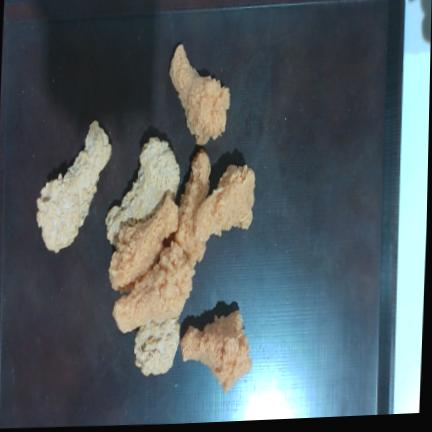chicken: (36, 121, 111, 252), (105, 137, 179, 247), (112, 240, 194, 332), (109, 193, 178, 289), (169, 43, 230, 144), (181, 310, 252, 391), (194, 165, 254, 250), (134, 317, 179, 375)
